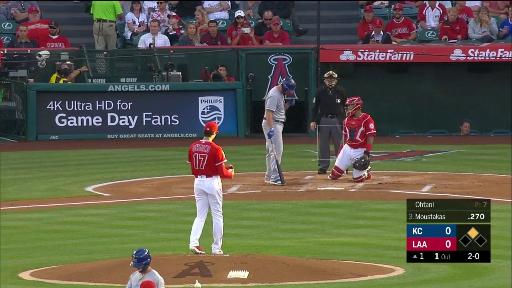pitcher: (188, 121, 235, 256)
